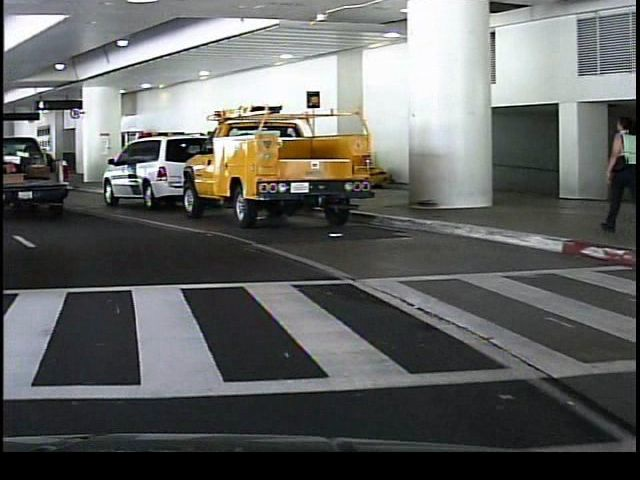person: (595, 109, 640, 238)
